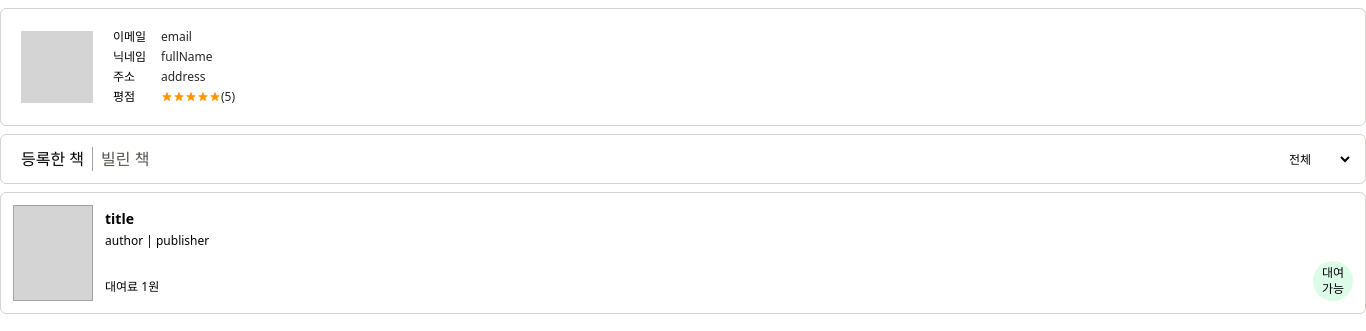
Test case: UserDetail/UserRentals › 로그인 상태에서 빌린 책 탭 클릭시 빌린 책 리스트 렌더링
Click the button "빌린 책".
click(125, 159)  # box [92, 147, 157, 171]
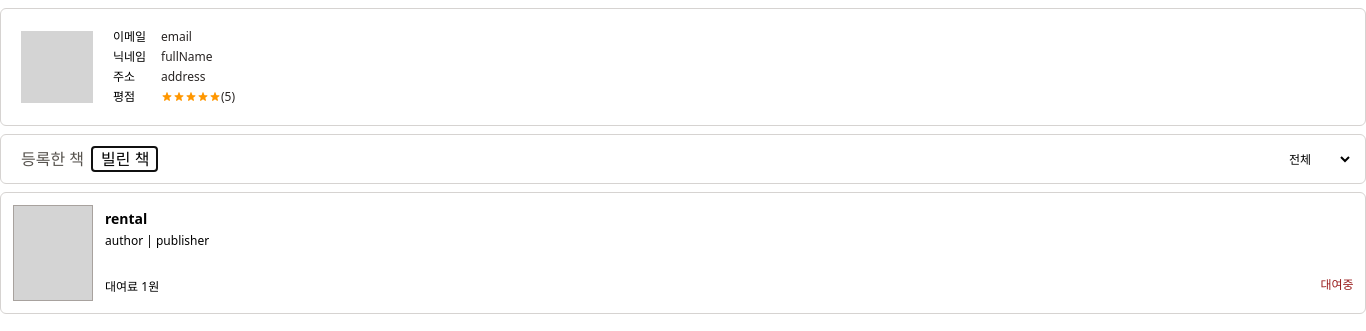
expect the text "rental" is shown: met, box [105, 209, 147, 228]
